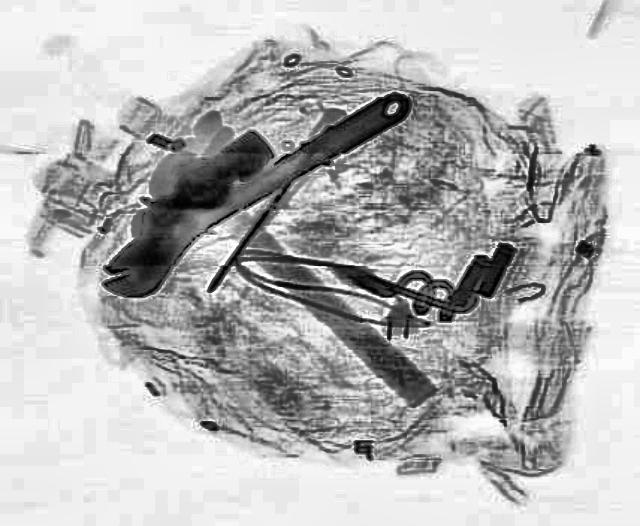Wrench: (80, 75, 430, 307)
